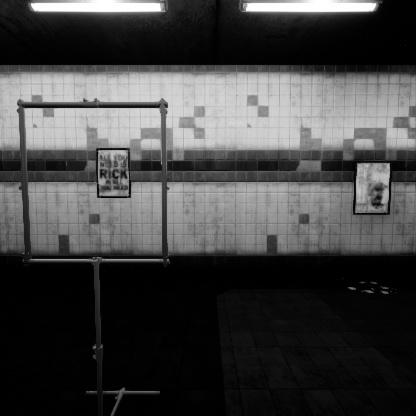gate: (18, 149, 182, 315)
